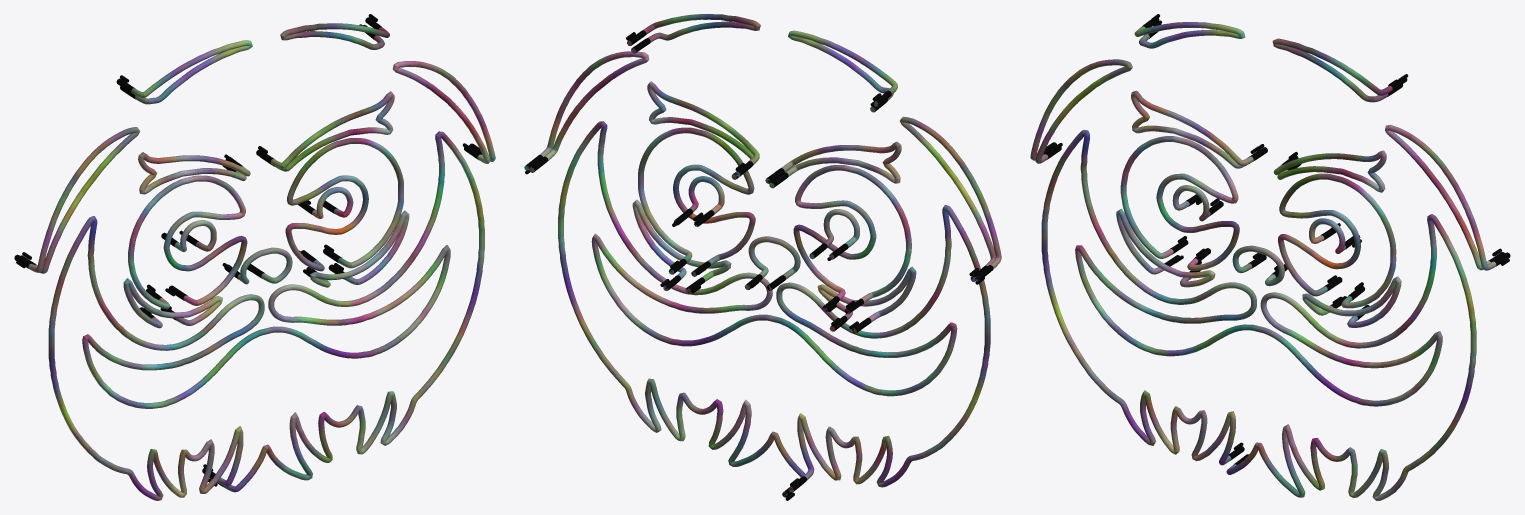
File: neonsign_14.fbx
The picture shows the model from 3 angles, left to right: view 1: azimuth 30°, elevation 25°; view 2: azimuth 150°, elevation 25°; view 3: azimuth 330°, elevation 25°; orthographic projection.
Parts seen in each view (by area): view 1: neonsign_14; view 2: neonsign_14; view 3: neonsign_14.
Boxes of the visible parts, bbox=[...] form: neonsign_14: bbox=[14, 14, 495, 500]; neonsign_14: bbox=[524, 14, 1001, 500]; neonsign_14: bbox=[1030, 14, 1510, 500].
Bounding box in the file's own units: 2.11 × 1.99 × 0.1903.
